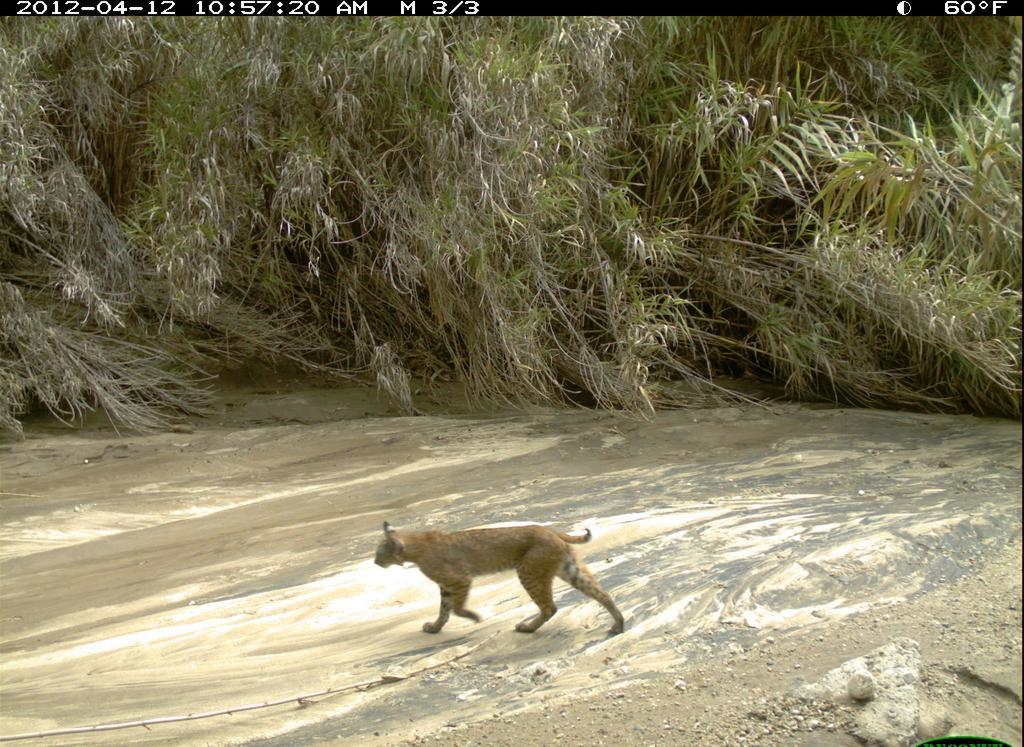bobcat: (370, 509, 638, 644)
